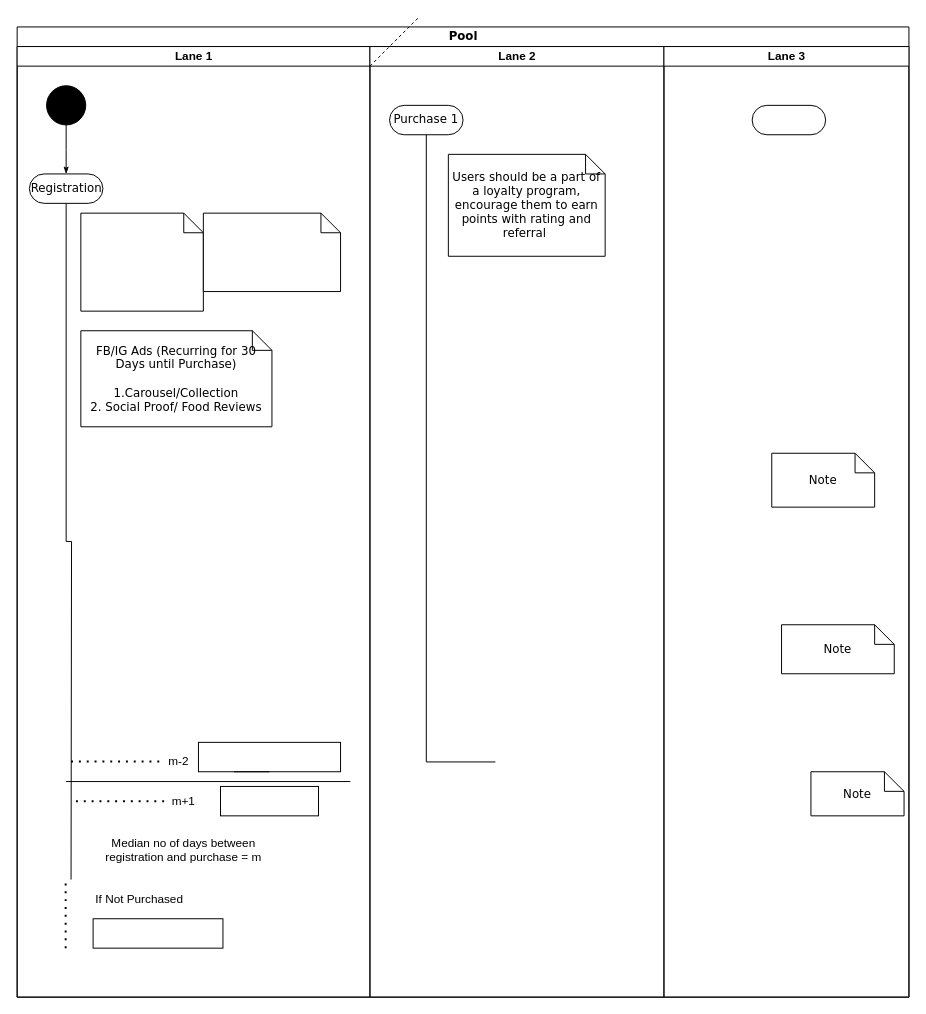
Image size: 926x1014. Some labels were removed from this diagram. The centre of each missing label's shape, as x and y in pixels:
New Email Sequence until 30 Days: pixel 157 933
Onboarding Email Sequence 1.Welcome Message 2. Tripwire Product 3. Social Proof: pixel 141 261
Onboarding Push Sequence 1.Welcome 2. Tripwire: pixel 271 252
Phone Call: pixel 269 800
Purchase 2: pixel 788 119
SMS, PN, Email reminding about first time offer: pixel 269 756
